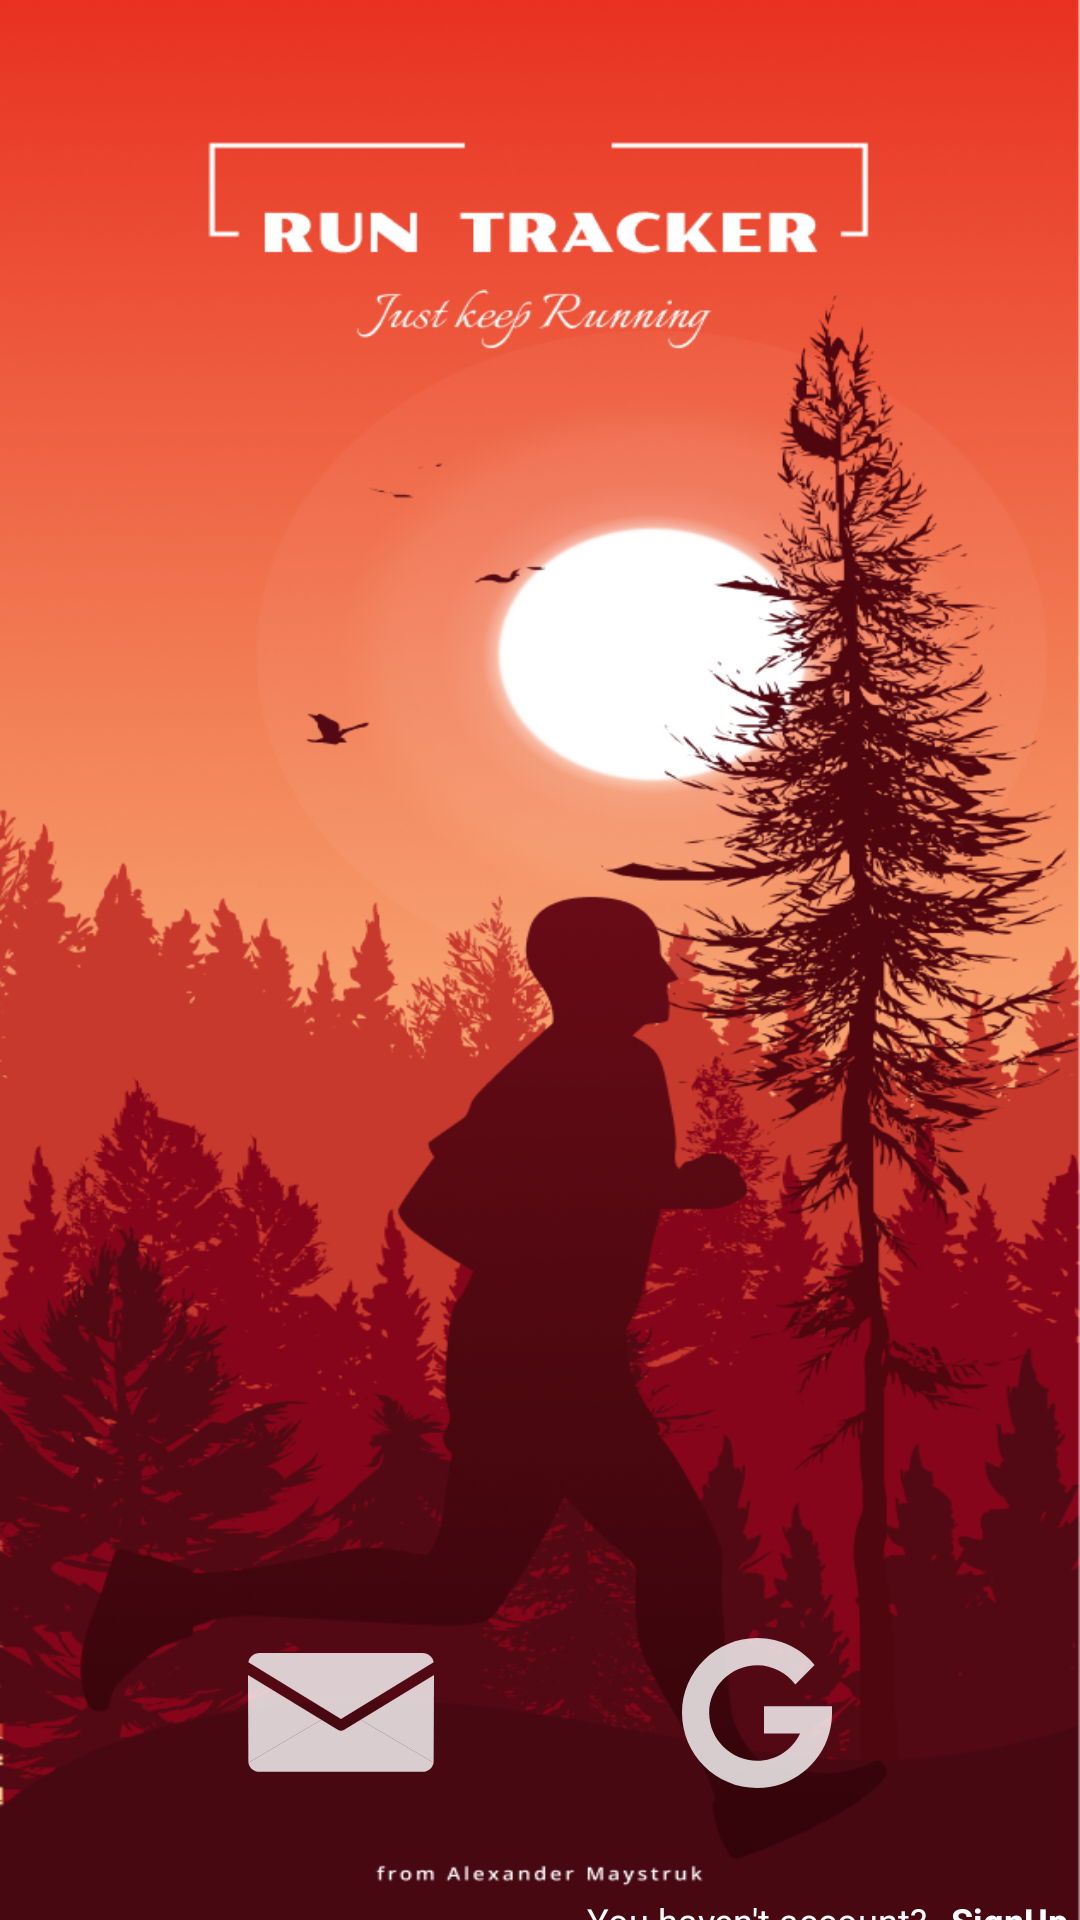

Where to tap for icons on this 1080 x 1920 app screen, as point (x, y):
mail: point (341, 1712)
